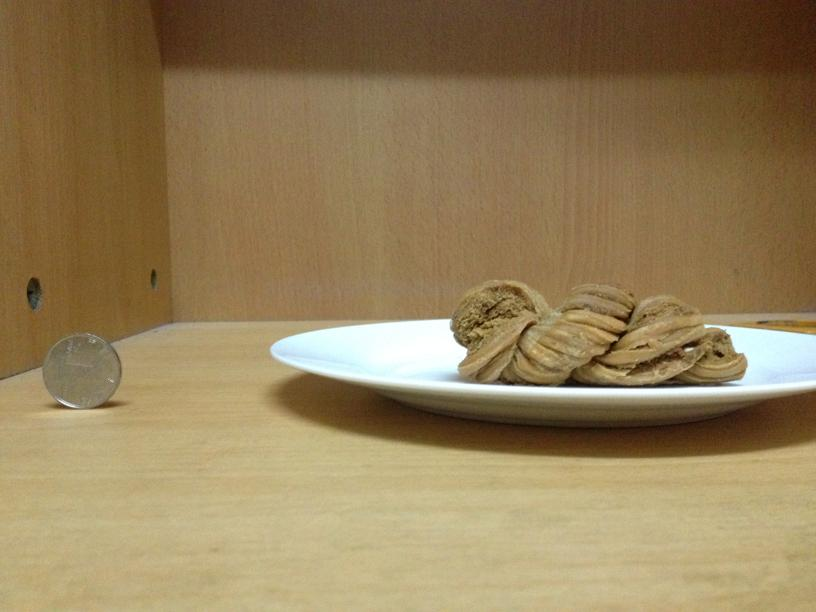coin: (42, 332, 121, 408)
fired_dough_twist: (445, 275, 748, 386)
